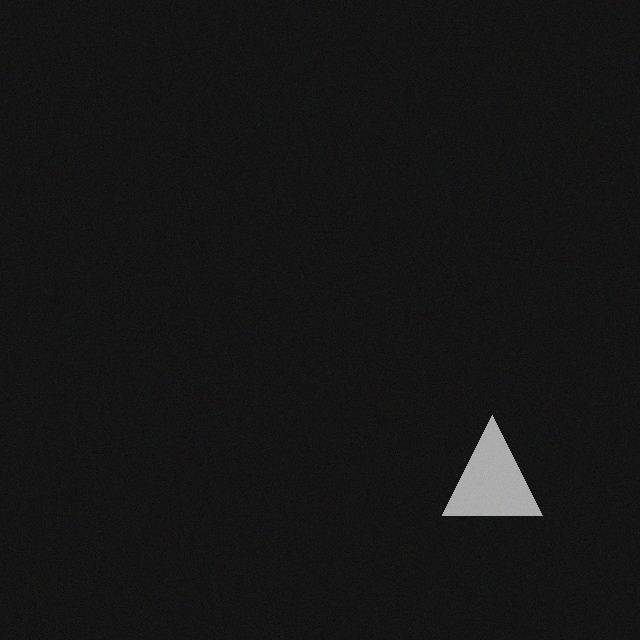triangle: (455, 419, 555, 519)
